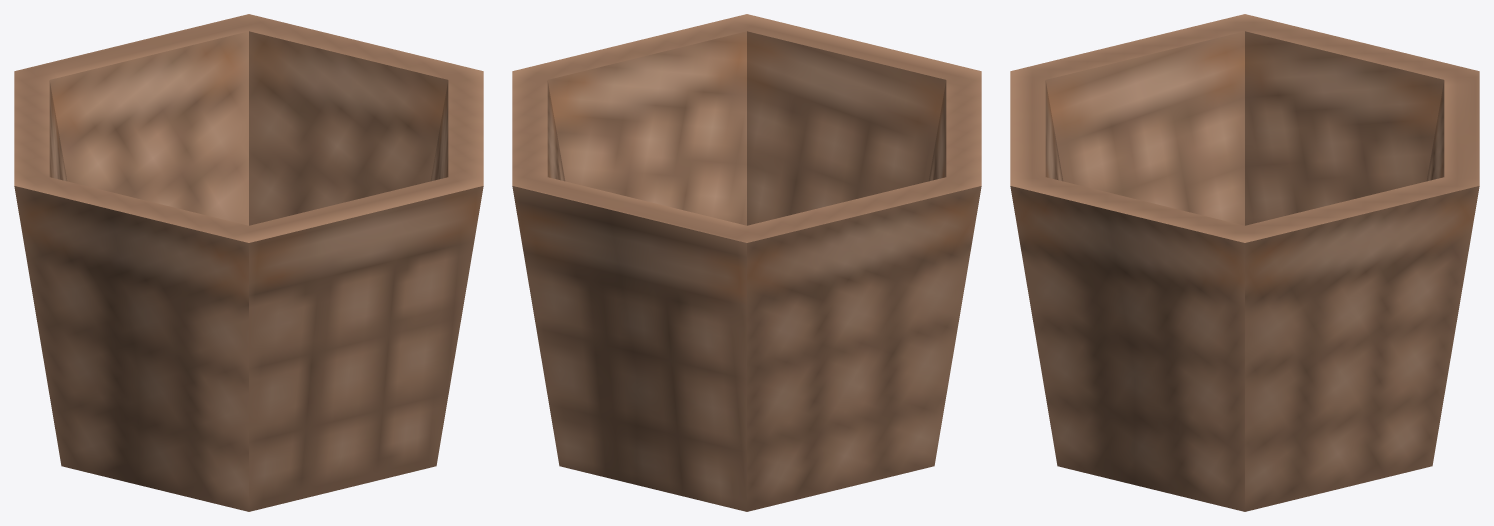
Rendered from SM_Basket.fbx.
3 views of the same model, side by side, from view 1: azimuth 30°, elevation 25°; view 2: azimuth 150°, elevation 25°; view 3: azimuth 270°, elevation 25° (orthographic).
Parts seen in each view (by area): view 1: Basket; view 2: Basket; view 3: Basket.
Part boxes in pixels (x1,y1,x2,y2): Basket: (14,14,483,511); Basket: (512,14,981,511); Basket: (1010,14,1479,511).
Size of the model in its own units: 2.57 by 1.53 by 2.23.
